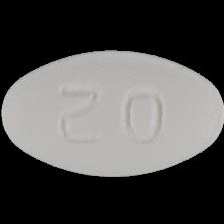10544-187: (0, 0, 224, 224)
